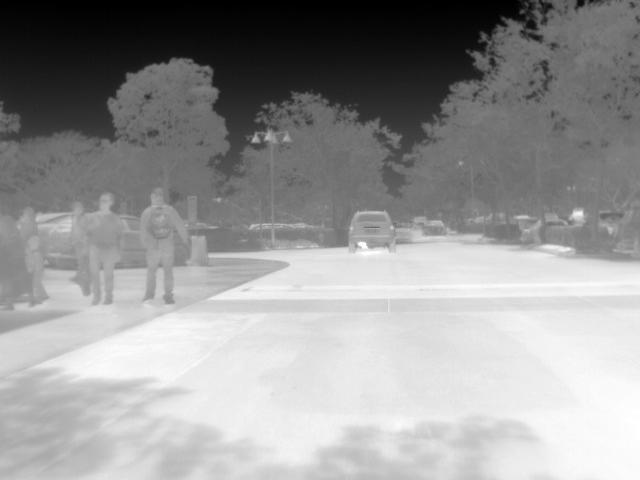car: (347, 209, 397, 253), (598, 209, 640, 257), (119, 211, 146, 268), (47, 218, 75, 267), (532, 217, 567, 243), (423, 221, 449, 238), (412, 214, 430, 230)
person: (138, 188, 192, 306), (85, 191, 127, 304), (1, 220, 38, 312), (17, 206, 41, 299), (70, 199, 93, 295), (24, 235, 47, 305)
